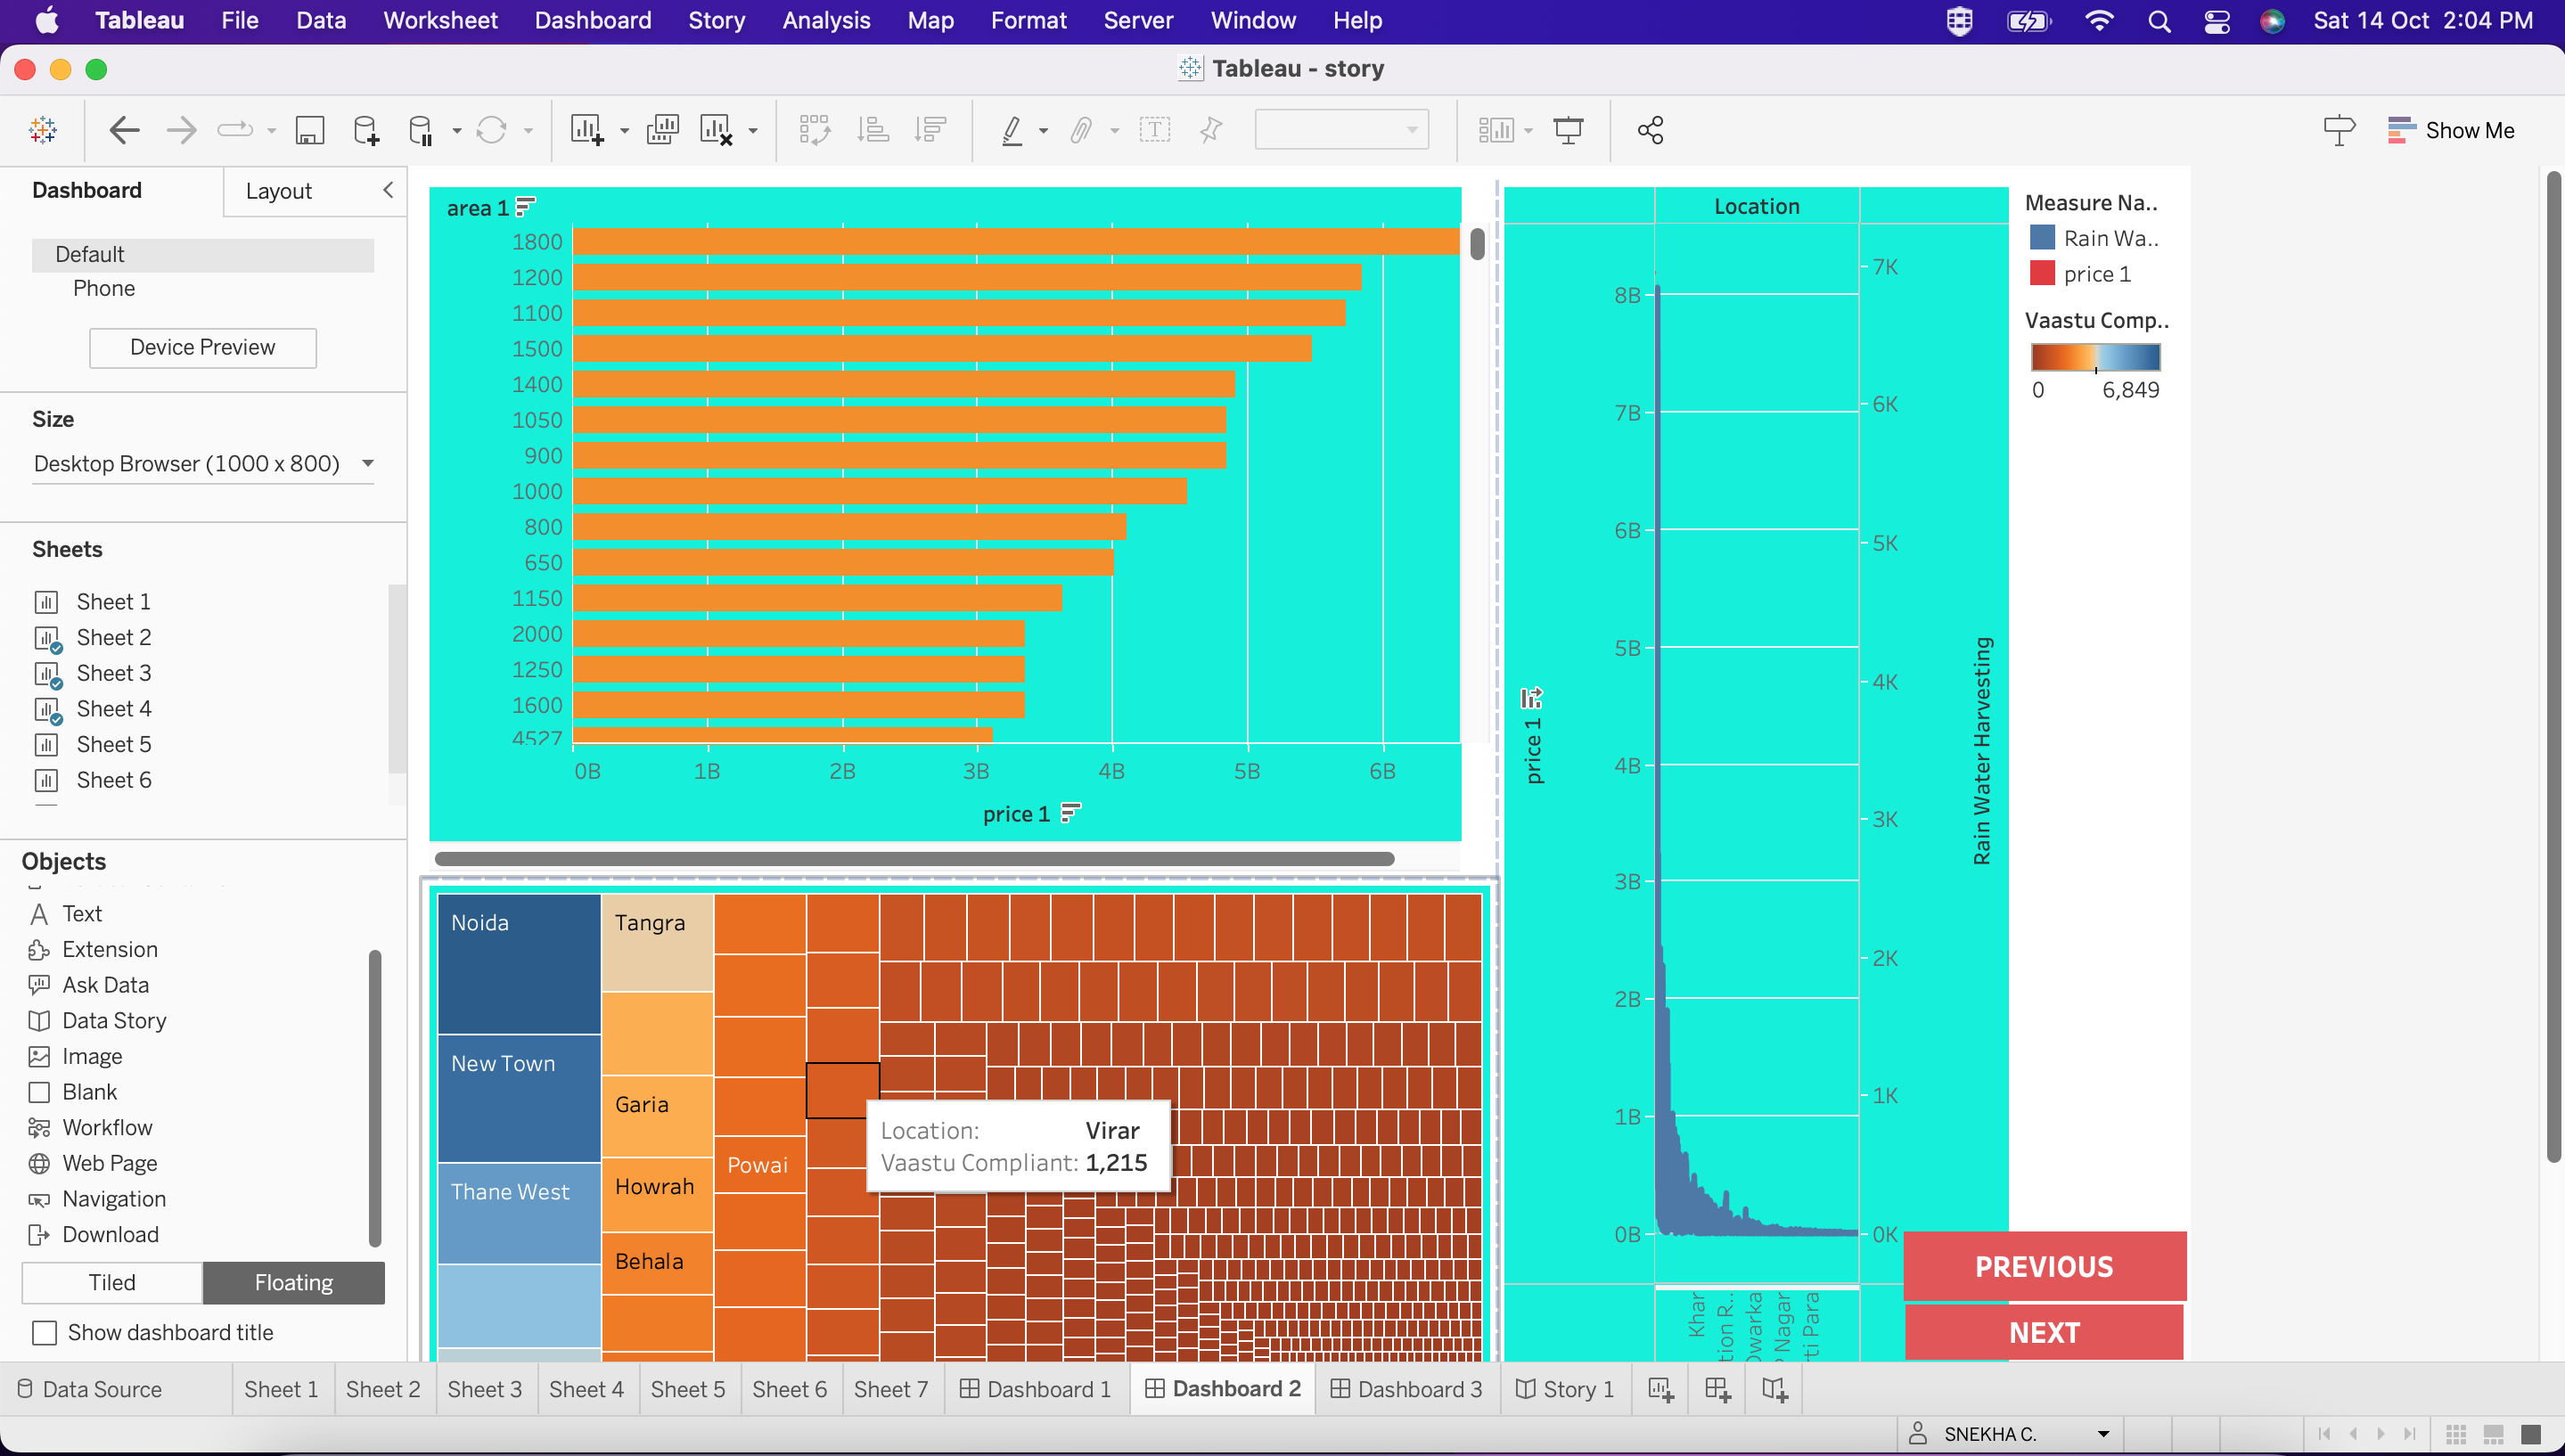

Layout of this report page (visuals, bound fields, positions):
{"tool":"tableau","page":{"name":"Dashboard 2","canvas":[1000,800],"ordinal":1},"visuals":[{"type":"worksheet","title":"Sheet 2","mark":"Automatic","rows":["Calculation_47428540634701830"],"cols":["Calculation_47428540635820040"],"box":[8,8,603,392]},{"type":"worksheet","title":"Sheet 3","mark":"Automatic","rows":["Calculation_47428540635820040","RainWaterHarvesting"],"cols":["Location"],"box":[611,8,292,784]},{"type":"legend","title":"Sheet 3","param":"[federated.07ro8ud17oq59117q04d70up889m].[:Measure Names]","box":[903,8,89,66]},{"type":"legend","title":"Sheet 4","param":"[federated.07ro8ud17oq59117q04d70up889m].[sum:VaastuCompliant:qk]","box":[903,74,89,65]},{"type":"worksheet","title":"Sheet 4","mark":"Automatic","box":[8,400,603,392]},{"type":"dashboard-object","box":[839,598,159,39]},{"type":"dashboard-object","box":[840,639,156,31]}]}

Visuals, with their boxes on the page's 1000x800 design canvas (x1, y1, x2, y2). These are canvas units, not pixel positions in the 2565x1456 screenshot, which may show the page scaled, cropped or inside an application window:
"Sheet 2" worksheet: l=8, t=8, r=611, b=400
"Sheet 3" worksheet: l=611, t=8, r=903, b=792
"Sheet 3" legend: l=903, t=8, r=992, b=74
"Sheet 4" legend: l=903, t=74, r=992, b=139
"Sheet 4" worksheet: l=8, t=400, r=611, b=792
dashboard-object: l=839, t=598, r=998, b=637
dashboard-object: l=840, t=639, r=996, b=670
